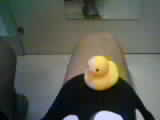duck: (82, 48, 120, 91)
